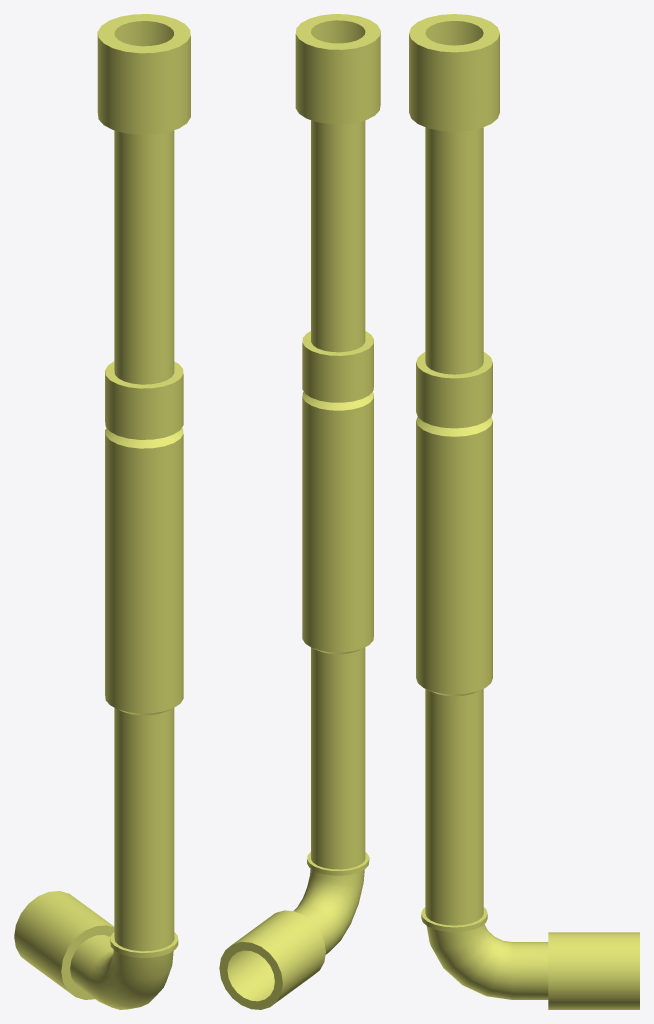
The model's file is Generator_Pipe_Vertical_Small_1.fbx.
3 views of the same model, side by side, from view 1: azimuth 30°, elevation 25°; view 2: azimuth 150°, elevation 25°; view 3: azimuth 270°, elevation 25° (orthographic). The views are drawn at different scales.
Visible parts, largest first — view 1: Pipe_Vertical_Small_1; view 2: Pipe_Vertical_Small_1; view 3: Pipe_Vertical_Small_1.
Boxes of the visible parts, <box> form: Pipe_Vertical_Small_1: <box>14,14,190,1009</box>; Pipe_Vertical_Small_1: <box>219,14,380,1009</box>; Pipe_Vertical_Small_1: <box>409,14,639,1009</box>.
Bounding box in the file's own units: 33.12 × 391 × 84.06.
